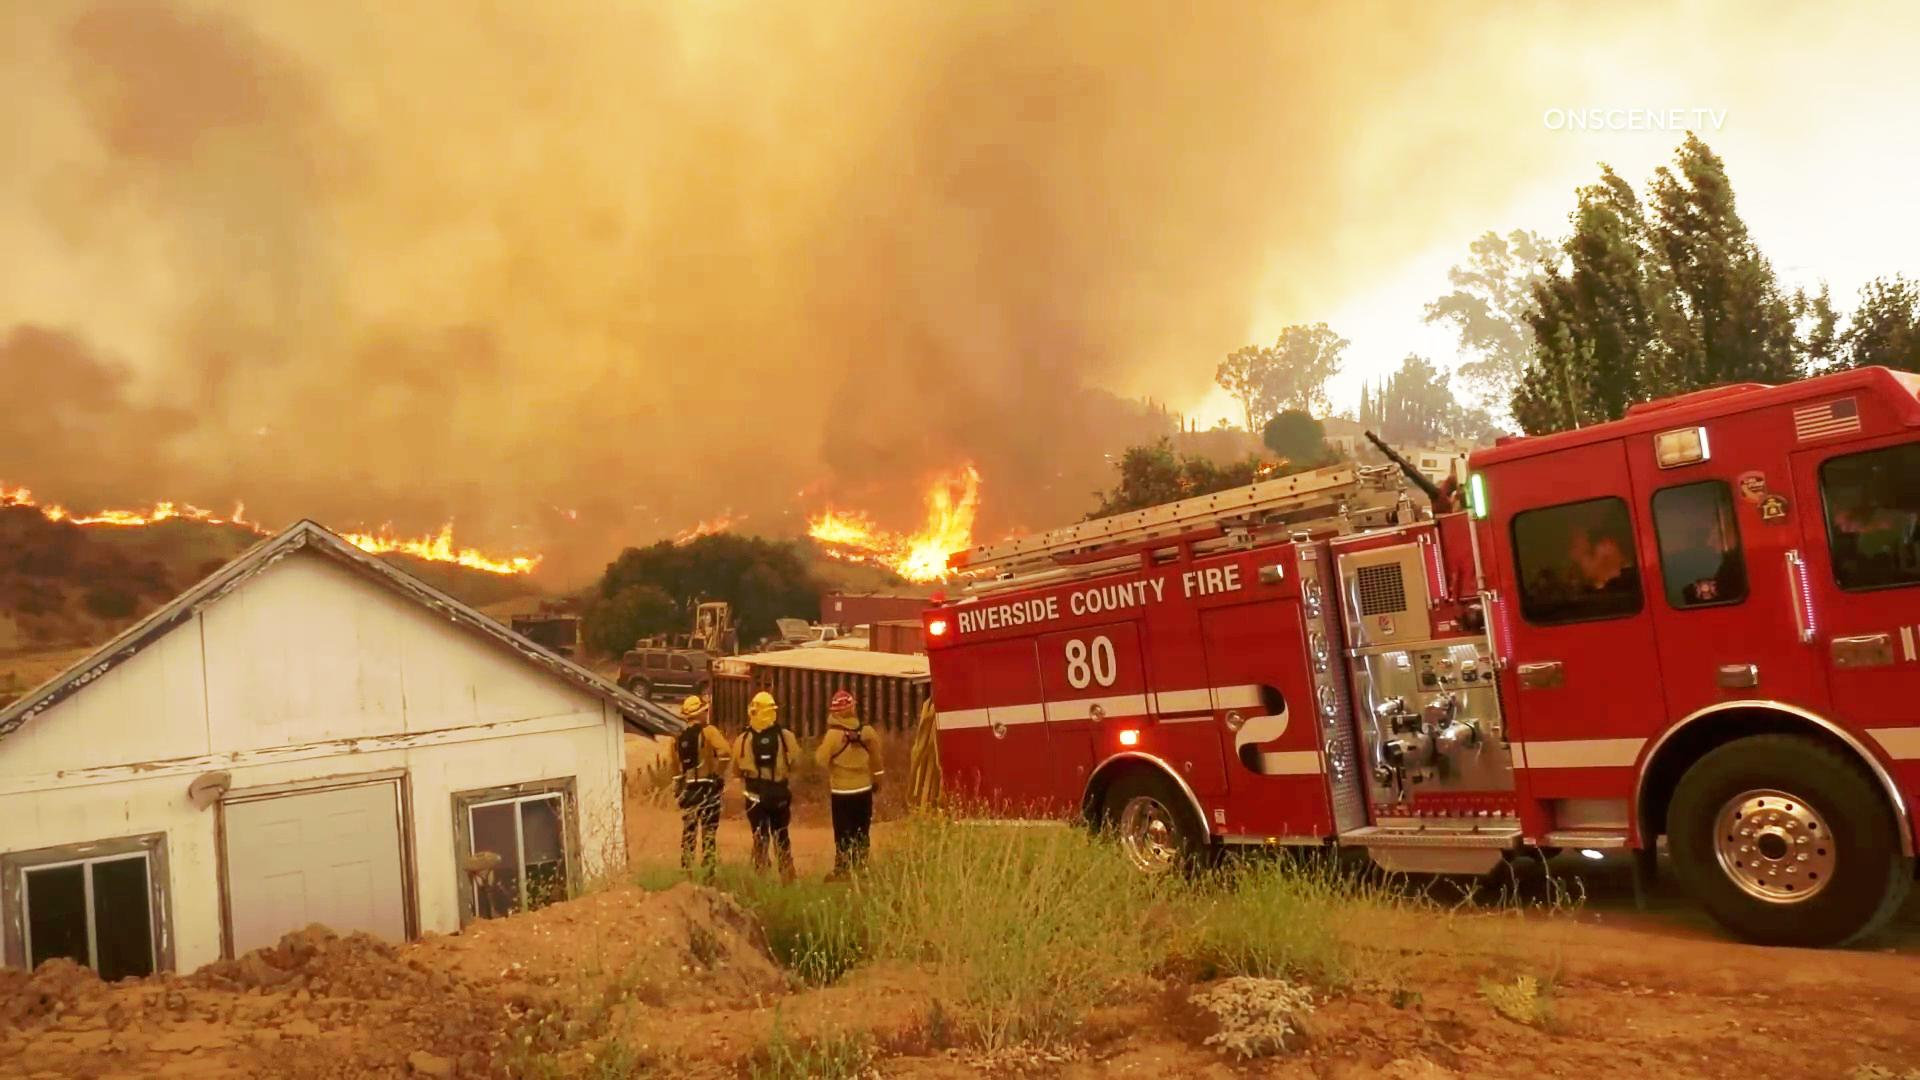fire: (820, 451, 1000, 587)
